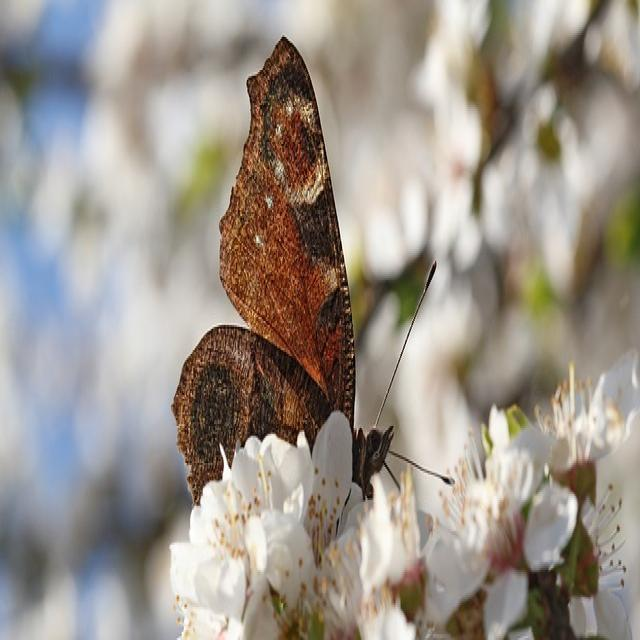butterfly: (172, 37, 395, 510)
